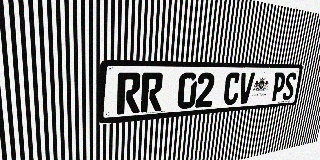0: (177, 72, 198, 109)
2: (195, 72, 215, 108)
C: (223, 72, 241, 105)
P: (270, 72, 286, 101)
R: (117, 73, 141, 115), (140, 73, 164, 113)
S: (282, 72, 297, 100)
V: (237, 72, 255, 104)
